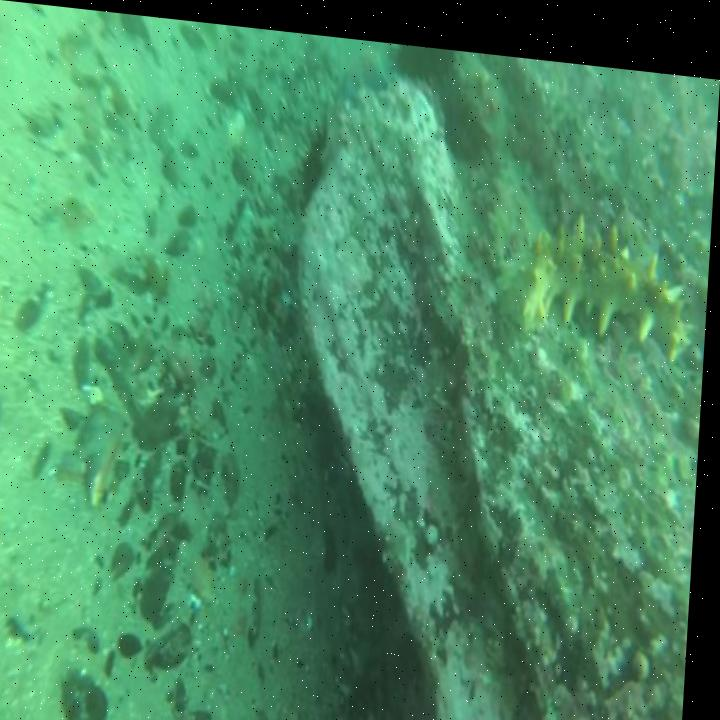echinus: (445, 91, 488, 156), (397, 37, 453, 74), (301, 127, 328, 195)
holothurian: (513, 194, 701, 348), (348, 542, 402, 720)
